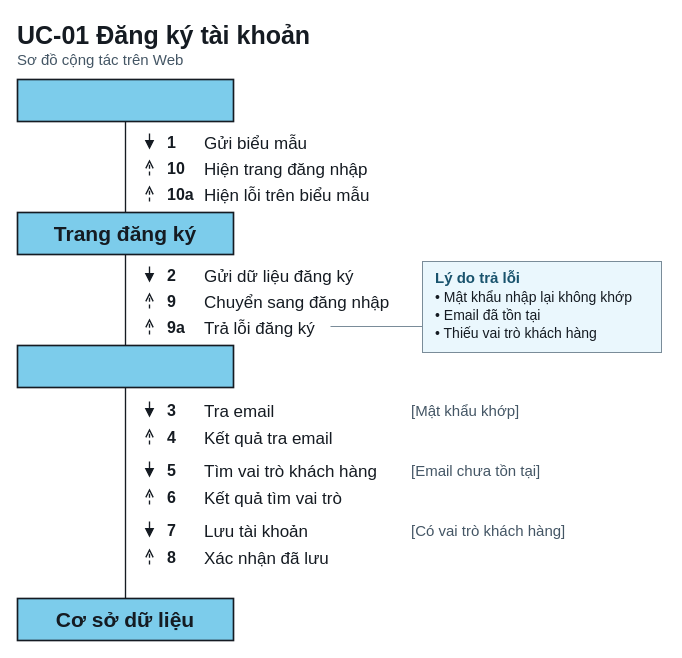
This 682x658 diagram has some shape labels left out. Each missing label, with the centre of its shape:
Khách hàng: the point at 125,100
Xử lý đăng ký: the point at 125,366
